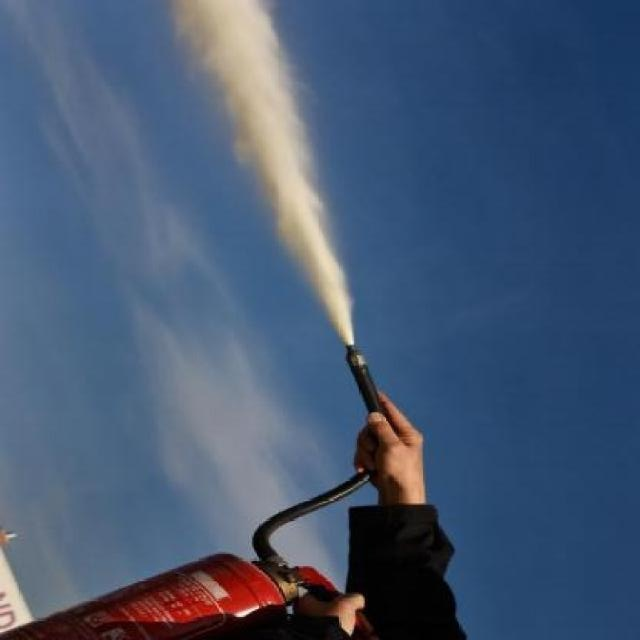fire extinguisher: (0, 344, 389, 640)
